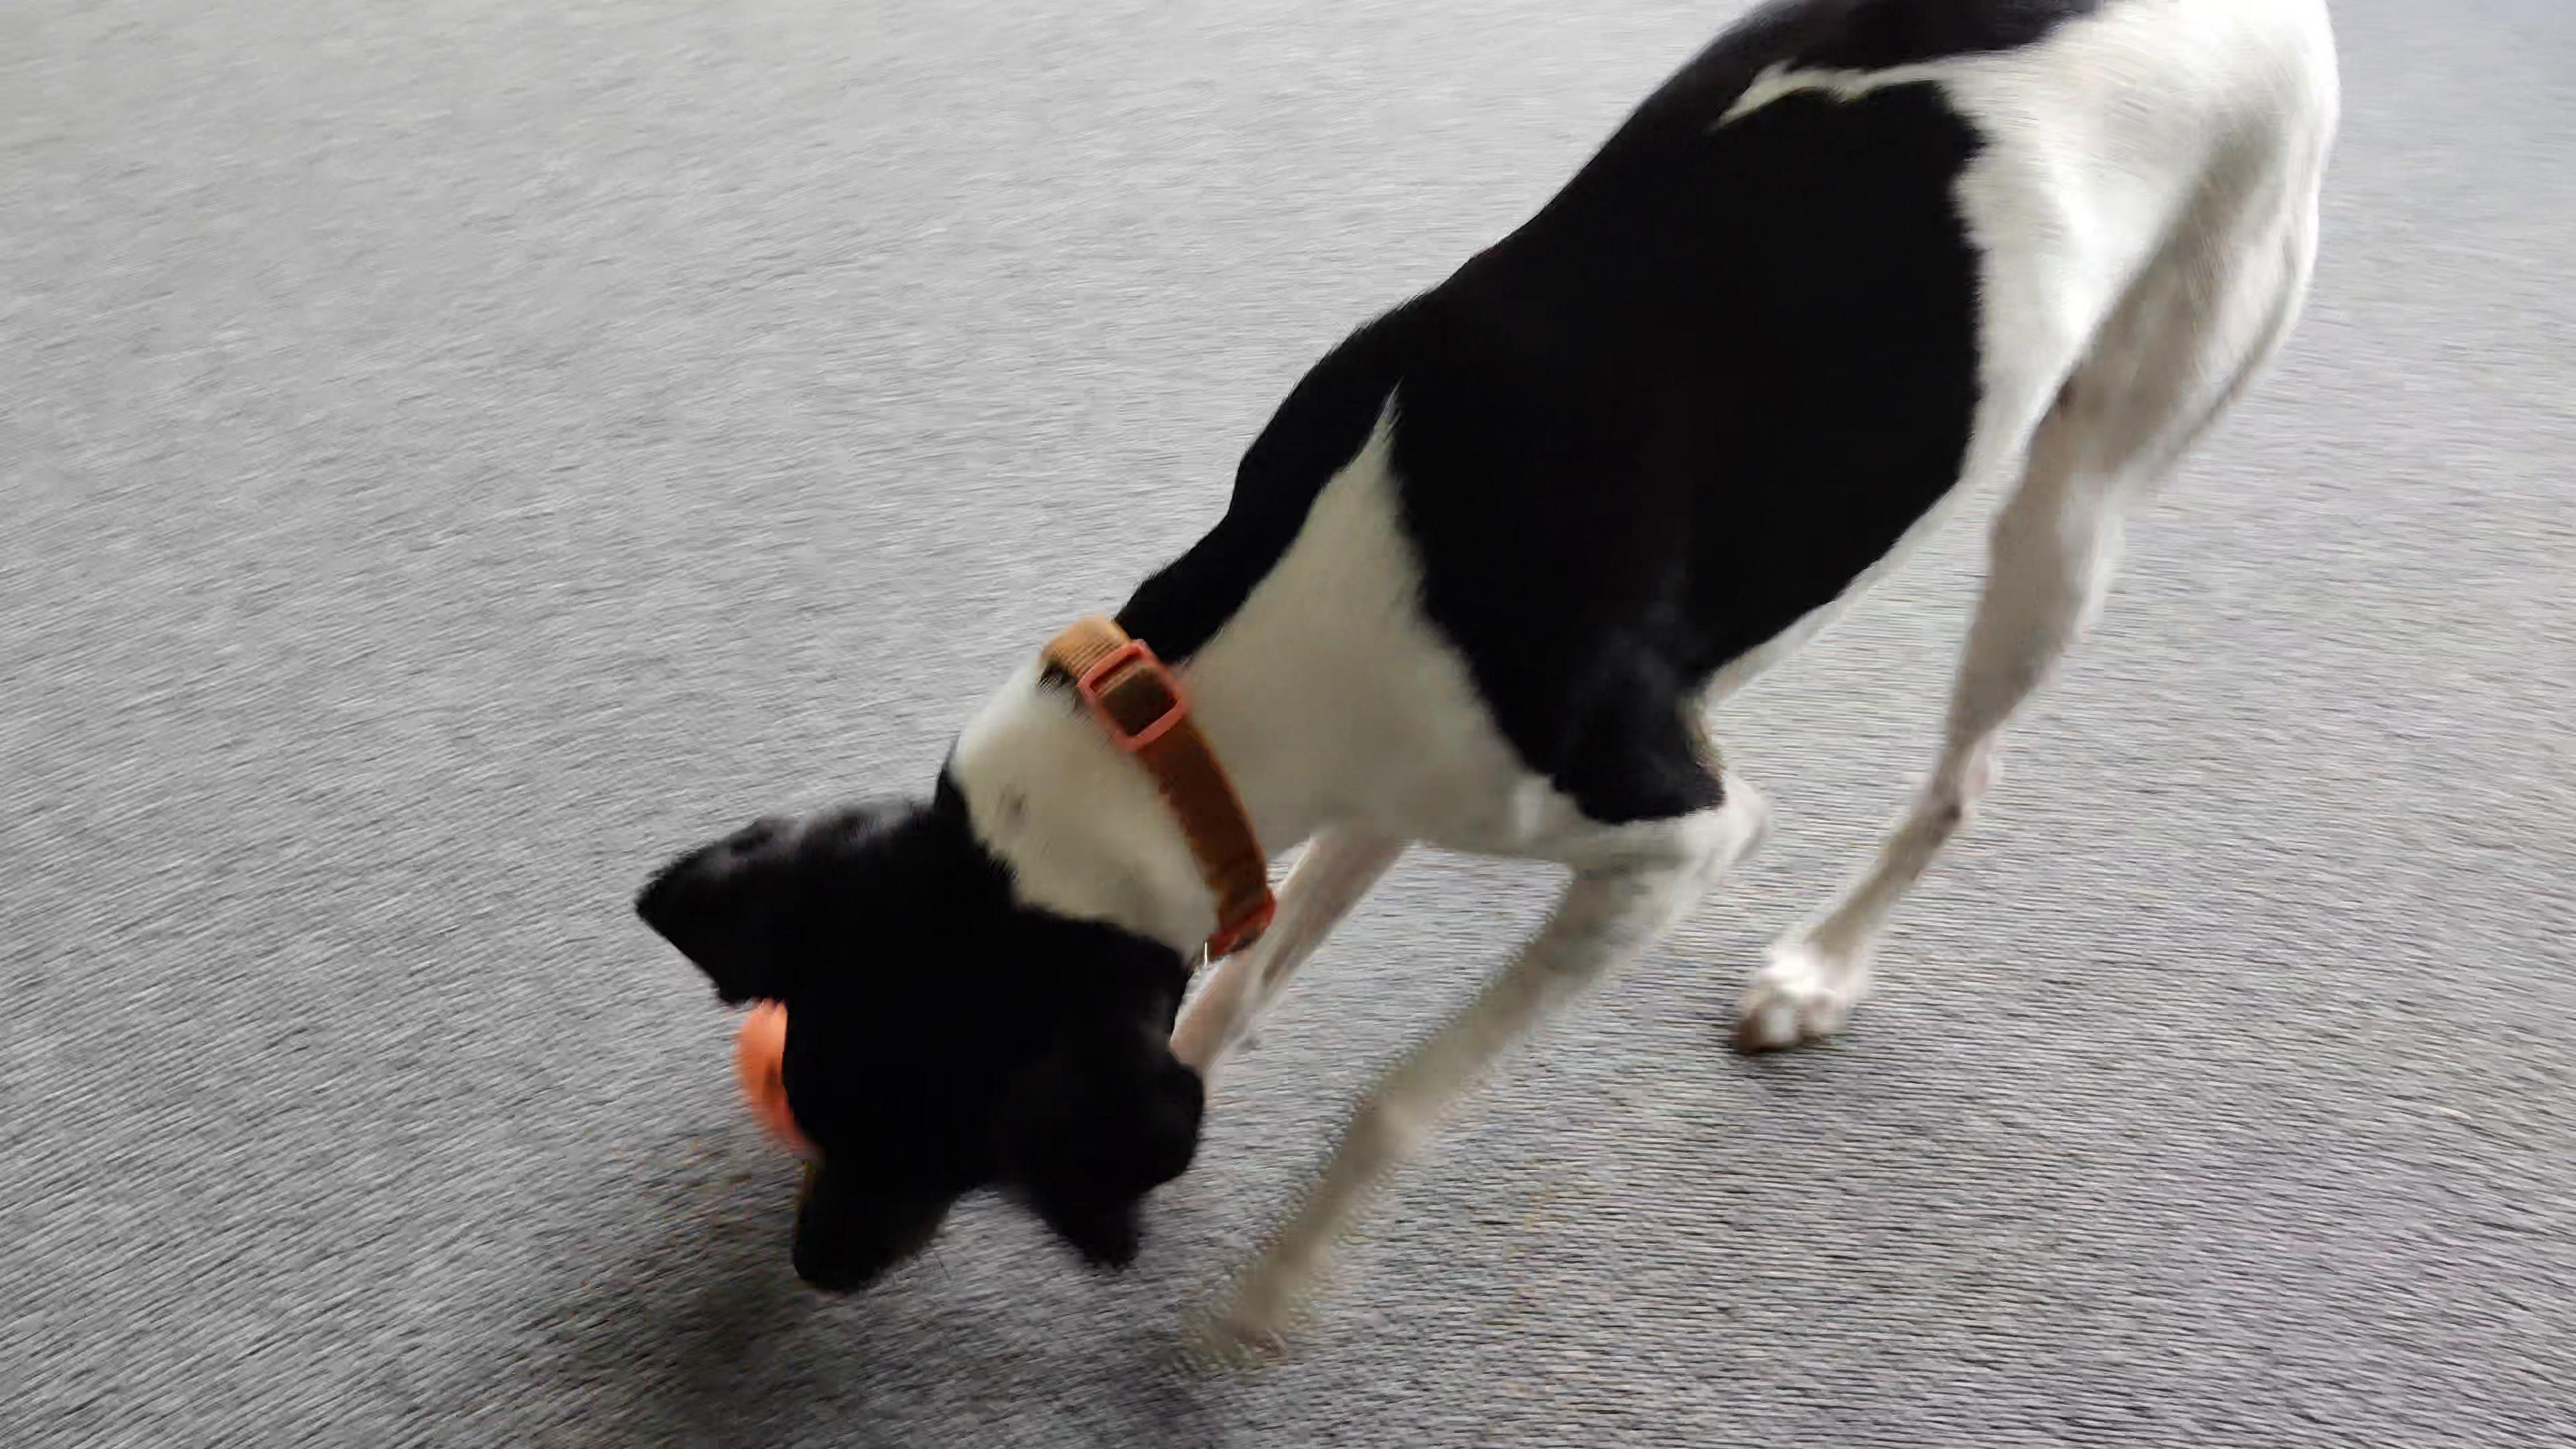Dog: (623, 0, 2342, 1373)
